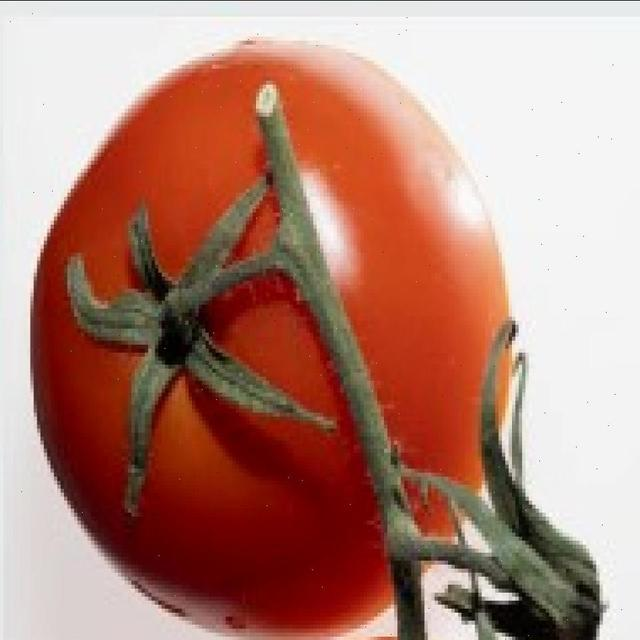Healthy Fruit: (14, 32, 339, 427)
